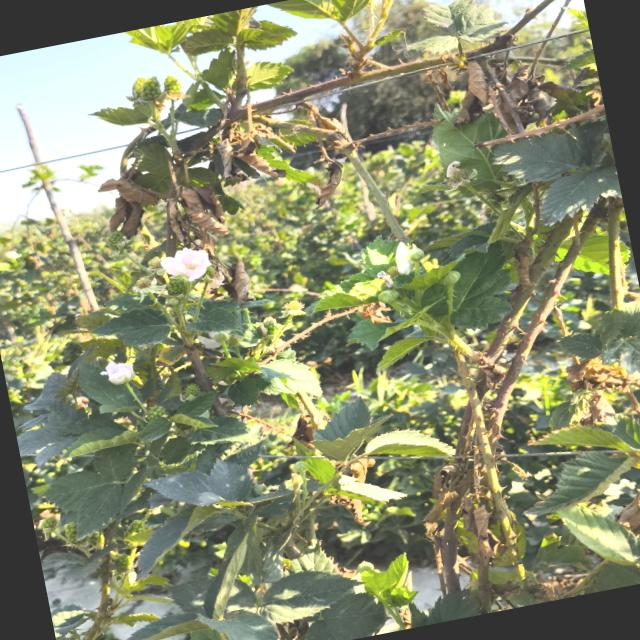boton: (438, 270, 461, 286), (377, 289, 400, 304), (408, 246, 424, 261)
flor: (161, 248, 210, 282), (101, 362, 134, 384)
